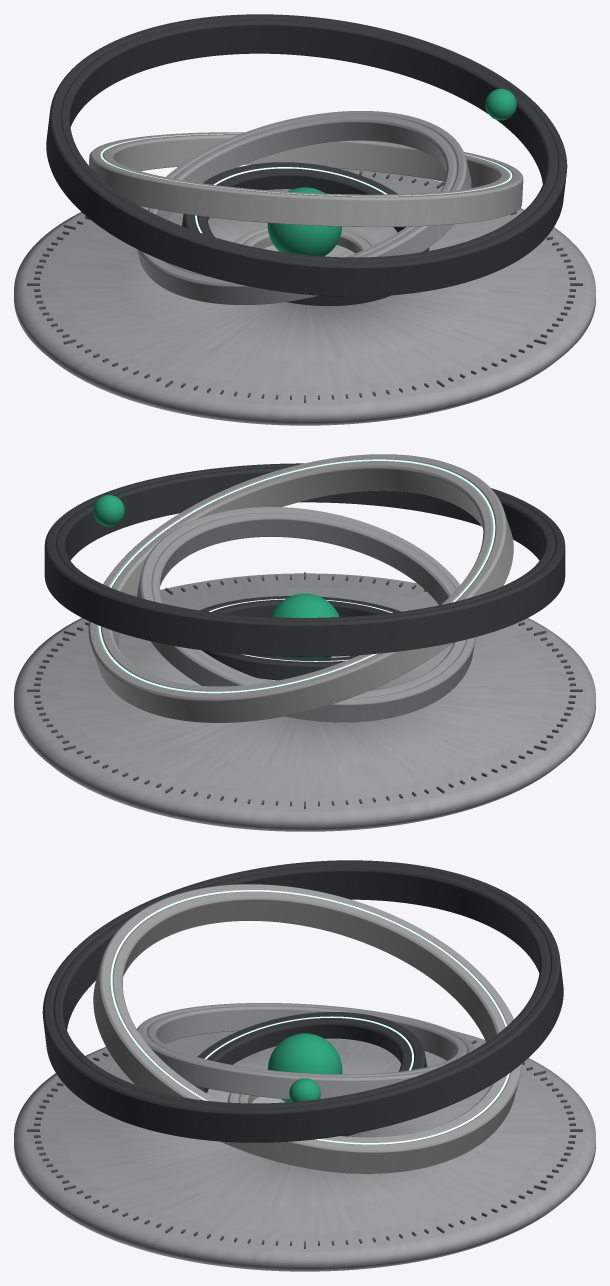
Rendered from rings.glb.
The picture shows the model from 3 angles, top to bottom: view 1: azimuth 30°, elevation 25°; view 2: azimuth 150°, elevation 25°; view 3: azimuth 270°, elevation 25°; orthographic projection.
Visible parts, largest first — view 1: RE2_RingsBase, RE2_Ring4, RE2_Ring3.001, RE2_Ring2, RE2_Ring1.001, RE2_RingsCore, RE2_RingsTicks, RE2_Ring0, RE2_Orbiter, RE2_RingInlay3; view 2: RE2_RingsBase, RE2_Ring4, RE2_Ring3.001, RE2_Ring2, RE2_Ring1.001, RE2_RingsTicks, RE2_RingInlay3, RE2_RingsCore, RE2_Orbiter; view 3: RE2_RingsBase, RE2_Ring4, RE2_Ring3.001, RE2_Ring2, RE2_Ring1.001, RE2_RingsCore, RE2_RingInlay3, RE2_RingsTicks, RE2_Orbiter, RE2_RingInlay1.
Boxes of the visible parts, x1,y1,x2,y2 form: RE2_RingsBase: (14,168,595,425); RE2_Ring4: (46,14,567,296); RE2_Ring3.001: (89,132,523,226); RE2_Ring2: (137,111,471,304); RE2_Ring1.001: (182,162,429,305); RE2_RingsCore: (267,187,342,256); RE2_RingsTicks: (27,170,582,402); RE2_Ring0: (234,226,376,253); RE2_Orbiter: (485,88,516,120); RE2_RingInlay3: (100,133,512,196); RE2_RingsBase: (14,573,595,831); RE2_Ring4: (44,463,565,656); RE2_Ring3.001: (88,454,513,722); RE2_Ring2: (136,507,476,722); RE2_Ring1.001: (200,596,400,680); RE2_RingsTicks: (27,572,582,808); RE2_RingInlay3: (98,459,495,693); RE2_RingsCore: (270,593,339,658); RE2_Orbiter: (93,495,124,526); RE2_RingsBase: (14,1030,595,1271); RE2_Ring4: (42,860,563,1142); RE2_Ring3.001: (93,884,522,1173); RE2_Ring2: (137,1003,475,1099); RE2_Ring1.001: (194,1012,427,1136); RE2_RingsCore: (267,1033,342,1102); RE2_RingInlay3: (110,890,509,1144); RE2_RingsTicks: (27,1036,582,1248); RE2_Orbiter: (289,1078,320,1101); RE2_RingInlay1: (205,1016,413,1070).
Size of the model in its own units: 3.12 by 1.16 by 3.12.
